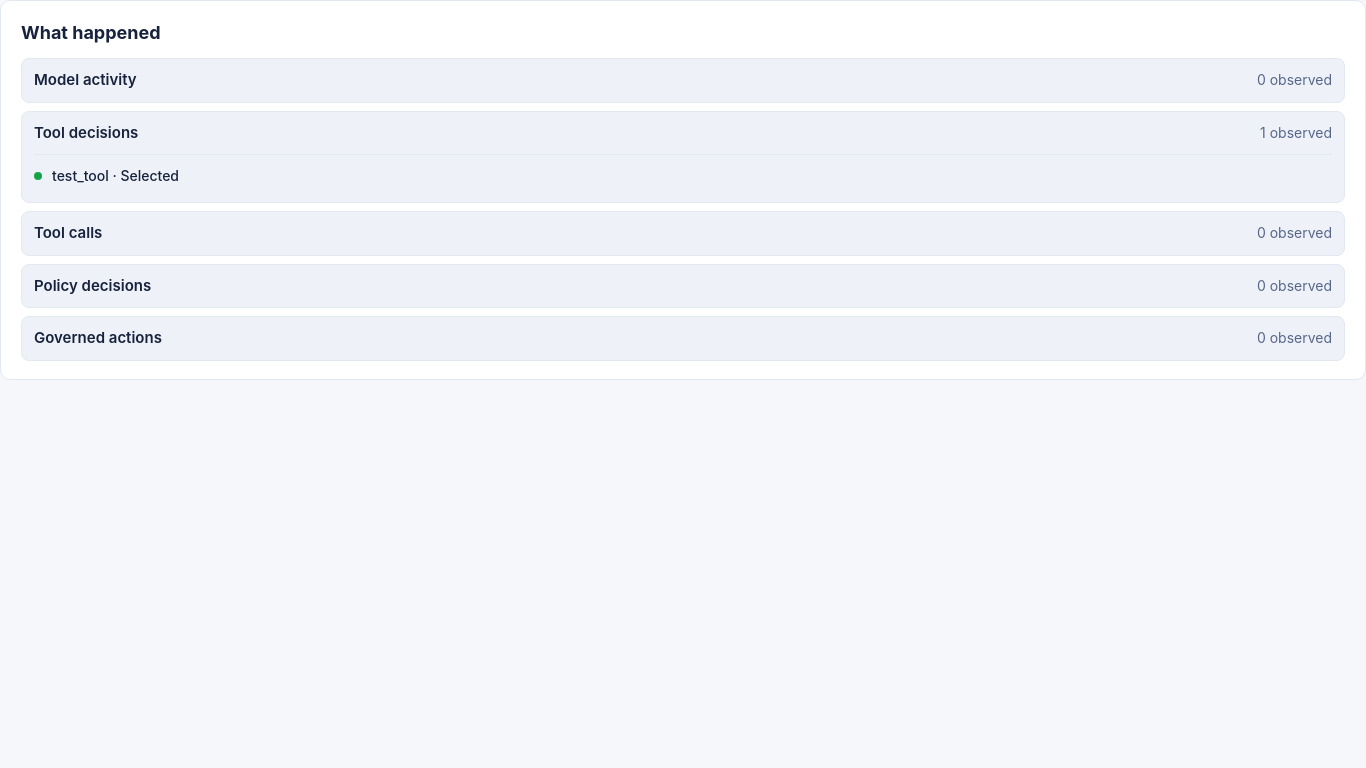
AssignmentActivitySummary › renders expandable tool decision records
The width and height of the screenshot is (1366, 768).
// Expand and check for fields
Click the heading "test_tool · Selected" at x=116, y=176, box [52, 167, 179, 184]
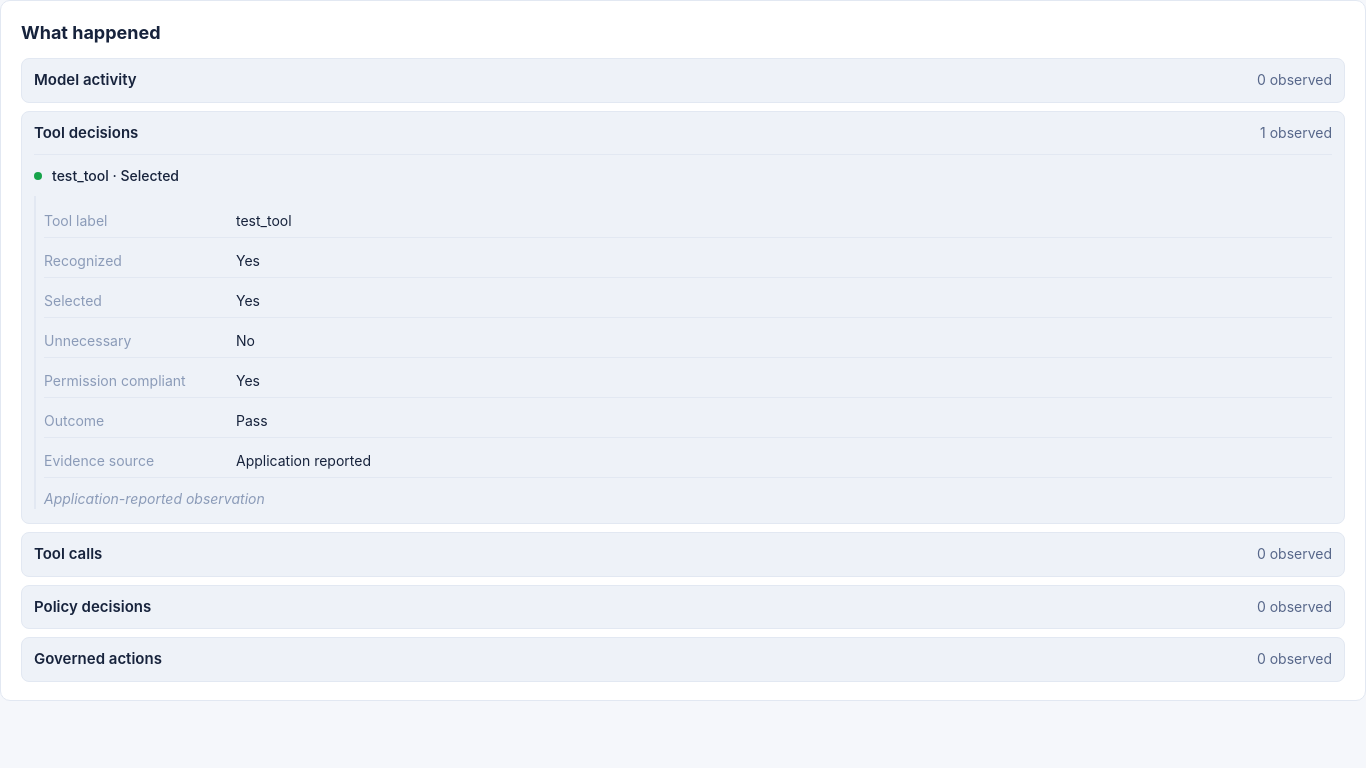
Check: the text "Tool label" is shown, box [44, 212, 107, 229]
Check: the text "Recognized" is shown, box [44, 252, 122, 269]
Check: the text "Selected" is shown, box [44, 292, 102, 309]
